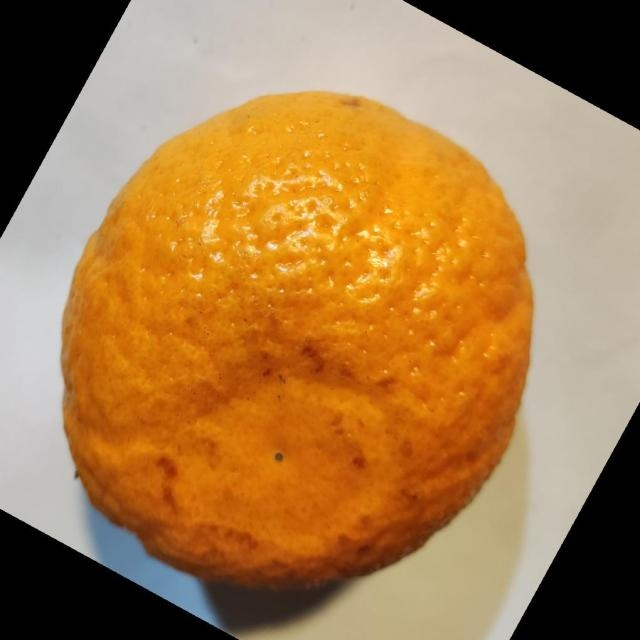agrume: (59, 89, 535, 591)
